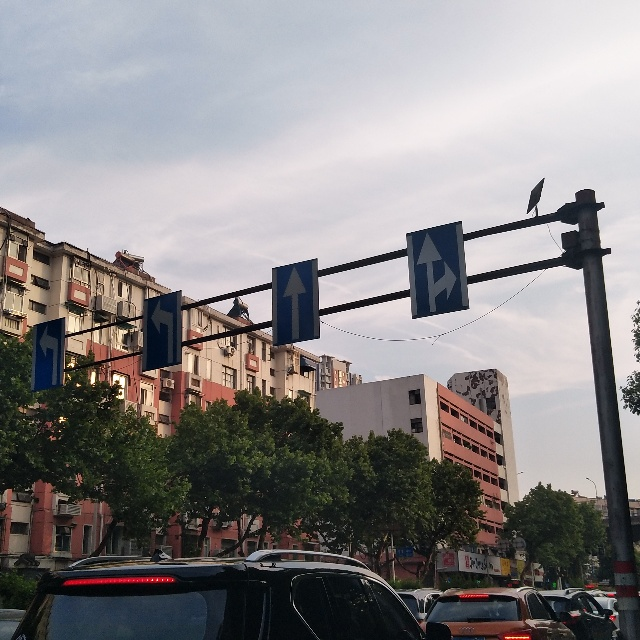left: (145, 299, 178, 368), (37, 322, 65, 385)
straight: (272, 269, 317, 339)
